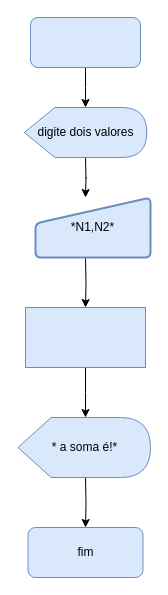
The diagram is 168 pixels wide and 595 high, and some of its shapes have lost their labels. The shapes that lost their labels are listed below. From the top down, each one's centre as x and y in pixels, then its label:
(x=85, y=42): inicío
(x=85, y=337): soma = N1 +N2
